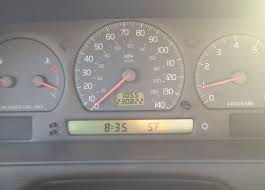Digital_Meter: (112, 92, 147, 107)
